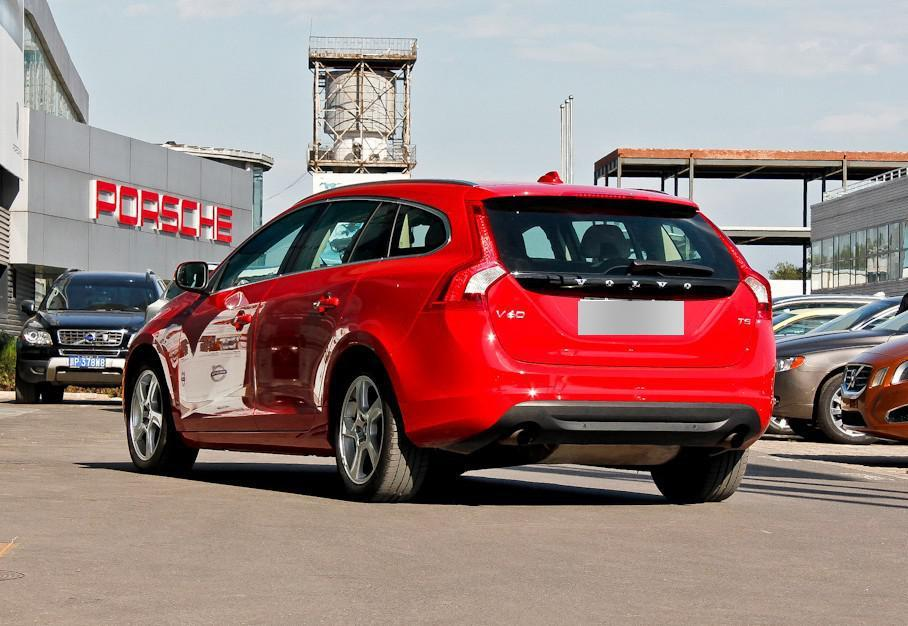Wagon: (120, 170, 777, 503)
